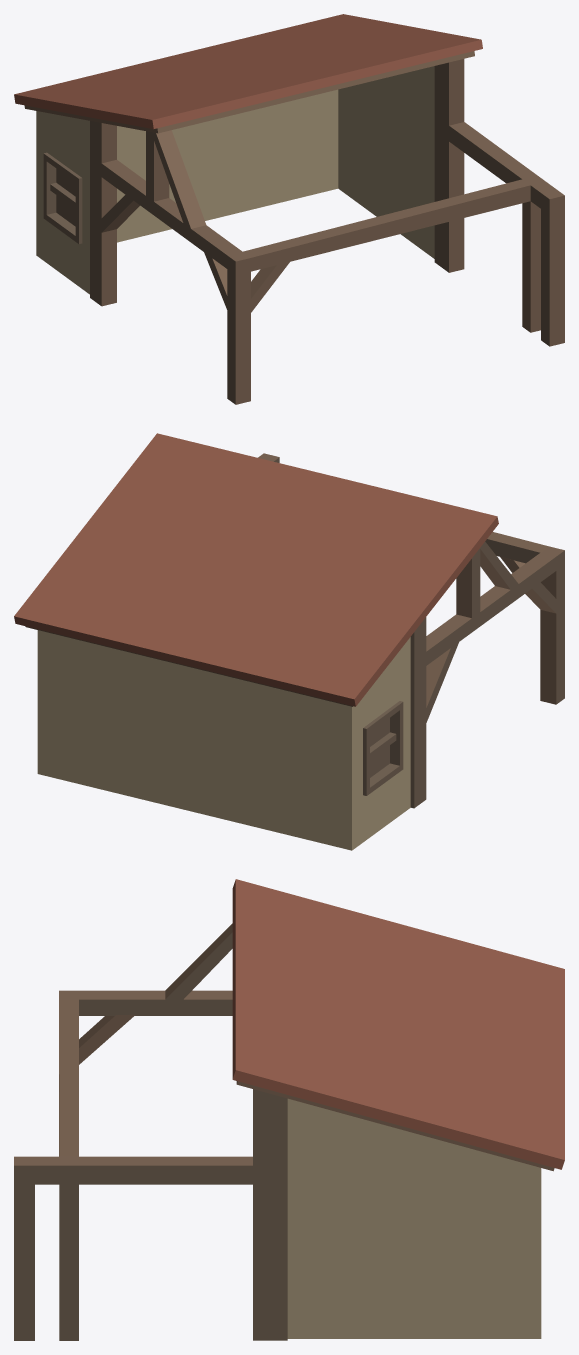
The model's file is sawmill_01.fbx.
3 views of the same model, one above another, from view 1: azimuth 30°, elevation 25°; view 2: azimuth 150°, elevation 25°; view 3: azimuth 270°, elevation 25° (orthographic). The views are drawn at different scales.
Visible parts, largest first — view 1: sawmill_01; view 2: sawmill_01; view 3: sawmill_01.
Boxes of the visible parts, x1,y1,x2,y2 form: sawmill_01: [14, 14, 564, 404]; sawmill_01: [14, 433, 564, 850]; sawmill_01: [14, 879, 564, 1340].
Size of the model in its own units: 5.82 by 7.09 by 3.93.
